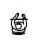Seat: (10, 12, 28, 36)
